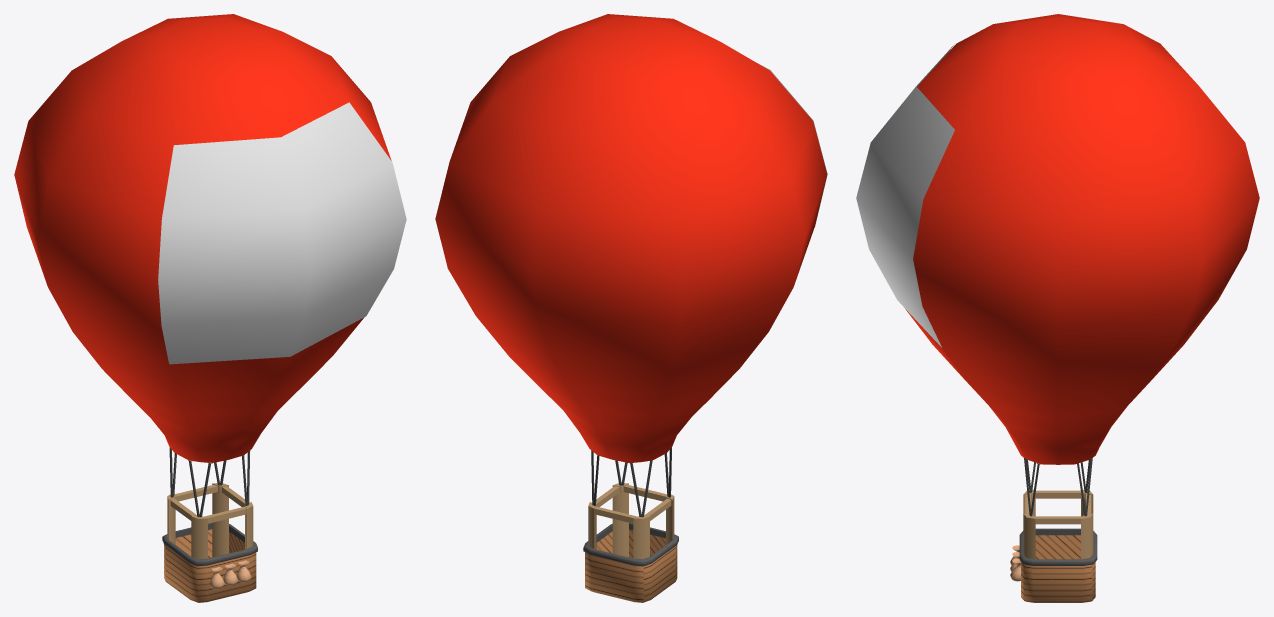
The model's file is OP-Ballon_Air_Ballon.fbx.
3 renders of one model, left to right at view 1: azimuth 30°, elevation 25°; view 2: azimuth 150°, elevation 25°; view 3: azimuth 270°, elevation 25°, orthographic.
Visible parts, largest first — view 1: Cube.010; view 2: Cube.010; view 3: Cube.010.
Part boxes in pixels (left/top/right/bottom): Cube.010: left=14, top=14, right=406, bottom=602; Cube.010: left=435, top=14, right=827, bottom=602; Cube.010: left=856, top=14, right=1259, bottom=602.
Size of the model in its own units: 1038 by 1571 by 1040.
